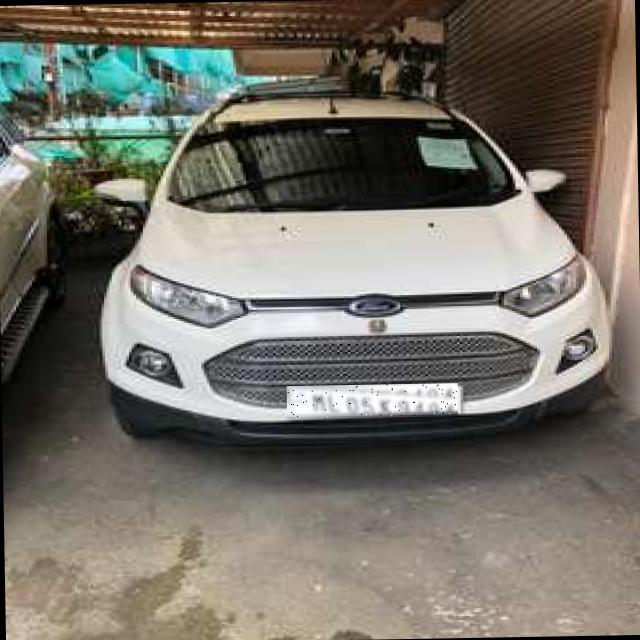Plate: (287, 384, 459, 419)
